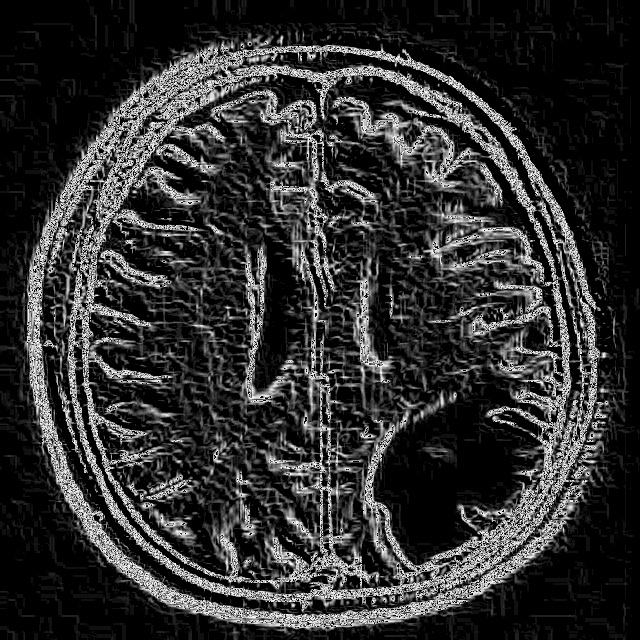Brain-Tumor: (351, 359, 554, 587)
